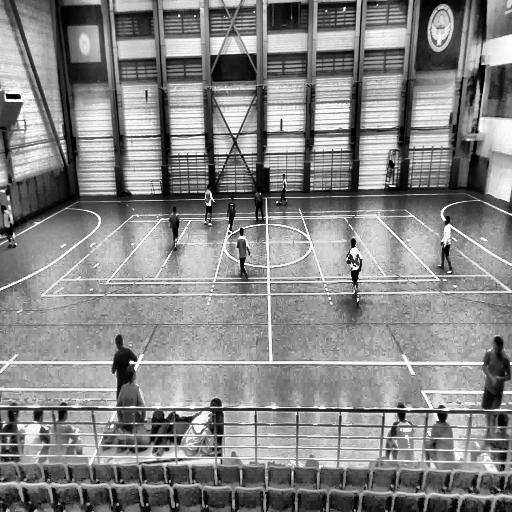ball: (275, 199, 280, 208)
player: (480, 335, 512, 431), (111, 335, 140, 408), (345, 237, 361, 308), (437, 214, 452, 273), (1, 201, 19, 250), (237, 227, 250, 280), (226, 192, 236, 233), (204, 184, 214, 225), (254, 186, 265, 222), (170, 206, 179, 250), (276, 172, 287, 206)
